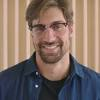Glasses: (27, 21, 68, 37)
